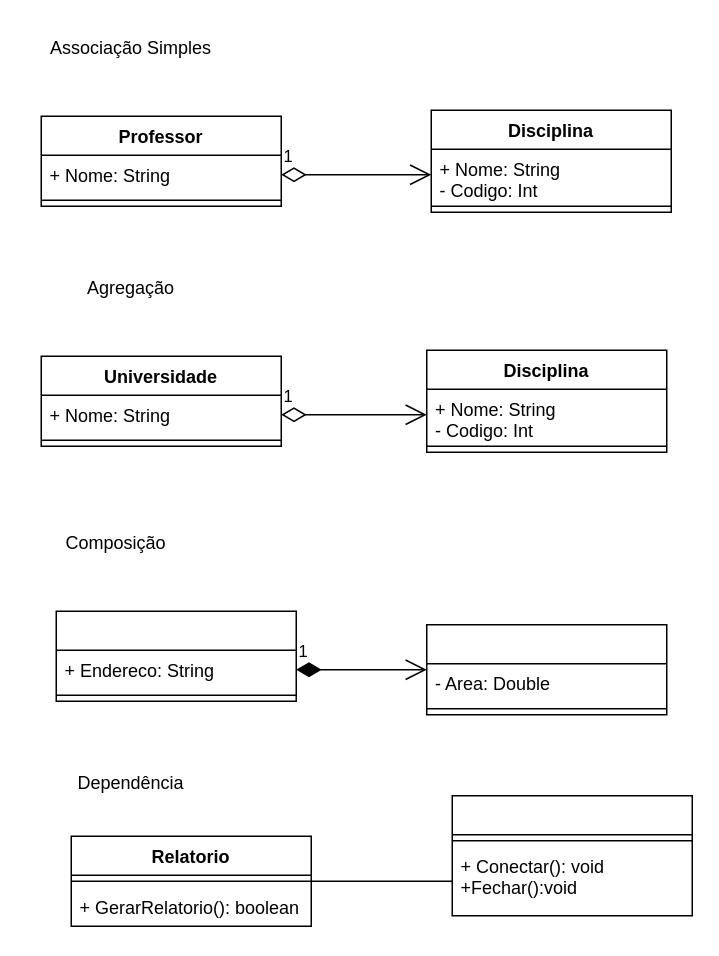
Some shapes in this 719 by 956 pixel diagram are drawn without their labels. The box of each missing label's shape, as (x1, y1, x2, y2) in pixels:
Casa: (55, 610, 296, 701)
ConexaoBanco: (451, 794, 692, 916)
Sala: (425, 623, 667, 715)
